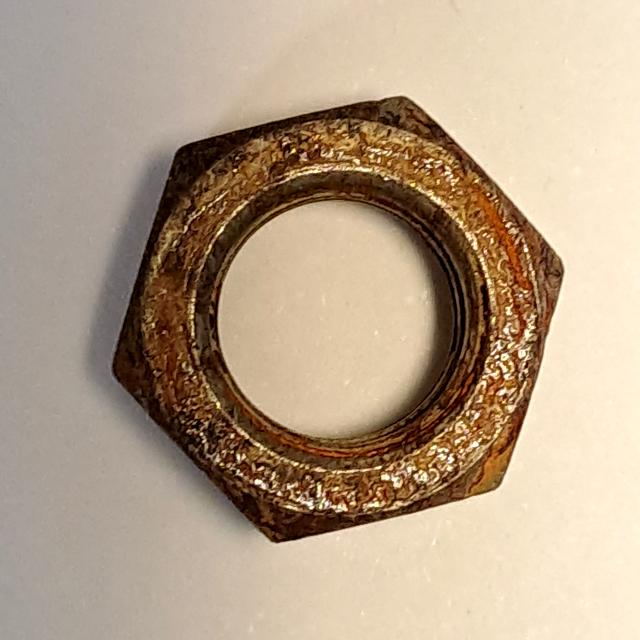Rust: (98, 76, 581, 567)
